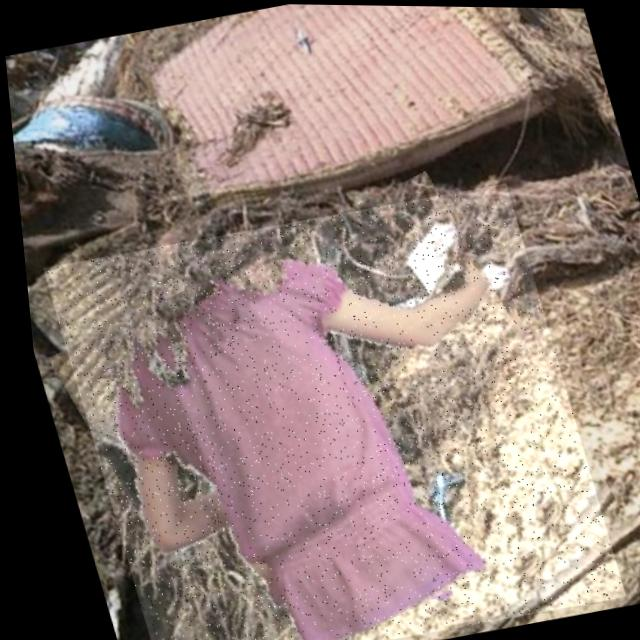Person in Rubble: (30, 176, 617, 640)
